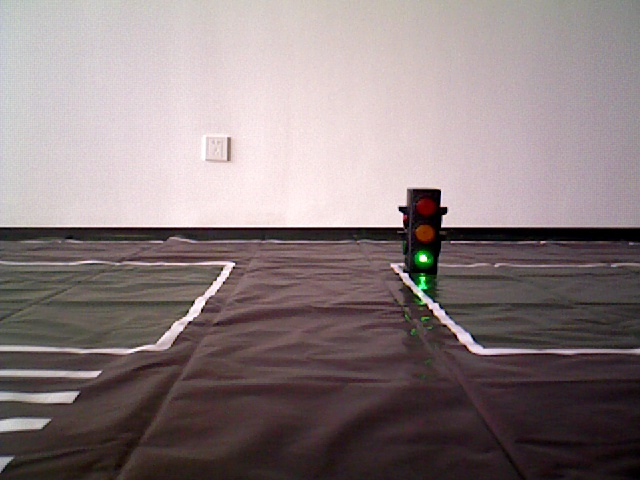green: (405, 189, 440, 269)
